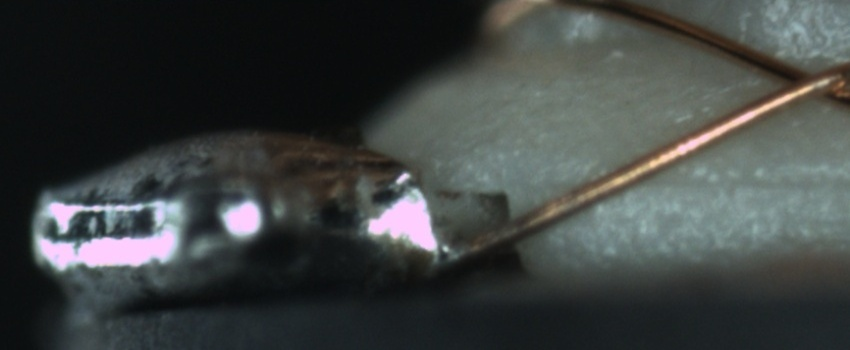CL: (752, 50, 847, 113)
DL: (572, 150, 846, 213)
